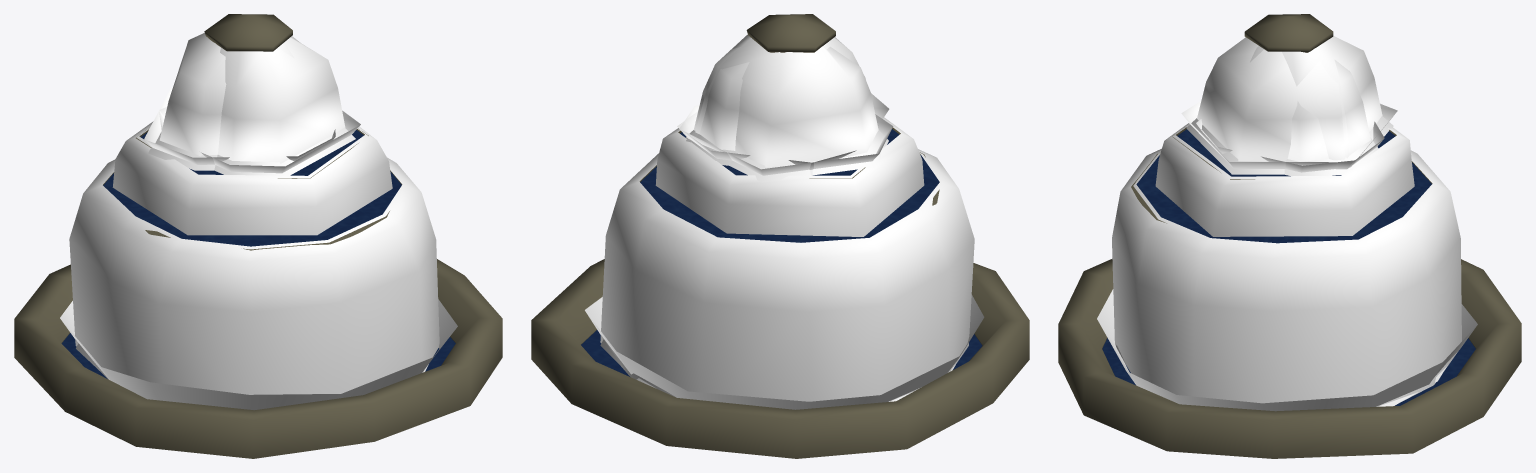
3 renders of one model, left to right at view 1: azimuth 30°, elevation 25°; view 2: azimuth 150°, elevation 25°; view 3: azimuth 270°, elevation 25°, orthographic.
Visible parts, largest first — view 1: 11566; view 2: 11566; view 3: 11566.
Boxes of the visible parts, x1=… form: 11566: x1=14, y1=14, x2=502, y2=458; 11566: x1=531, y1=14, x2=1029, y2=458; 11566: x1=1058, y1=14, x2=1521, y2=458.
Size of the model in its own units: 2.54 by 2.15 by 2.56.
Materials: 3 (1 with a texture image).
